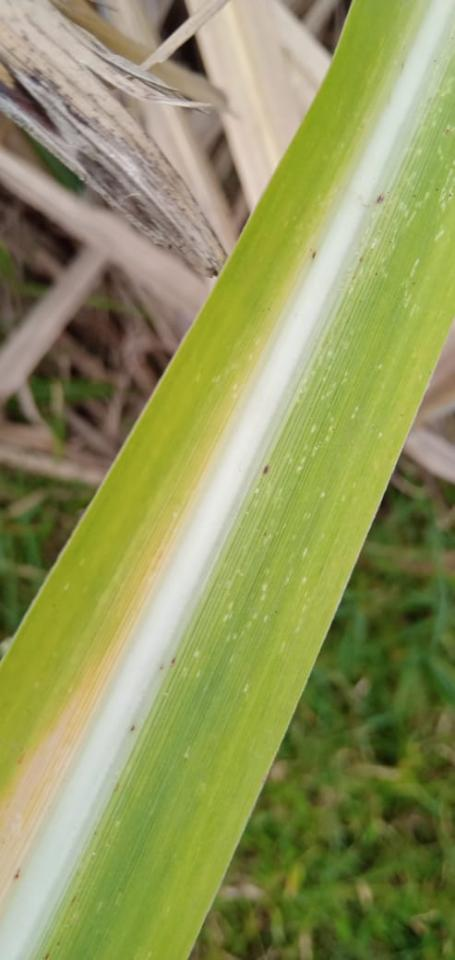Rust: (14, 867, 22, 880), (375, 194, 385, 204), (261, 466, 270, 476), (311, 250, 317, 260), (171, 658, 177, 664), (130, 725, 135, 732)
Yellow: (0, 590, 149, 896)
